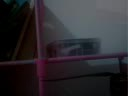window: (29, 23, 88, 96), (2, 25, 14, 51)
